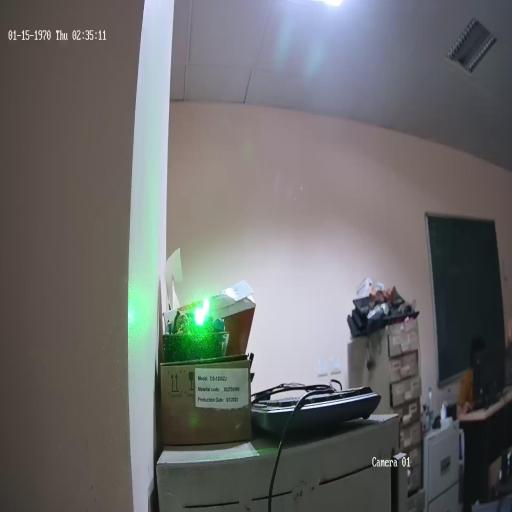laser: (189, 290, 214, 330)
